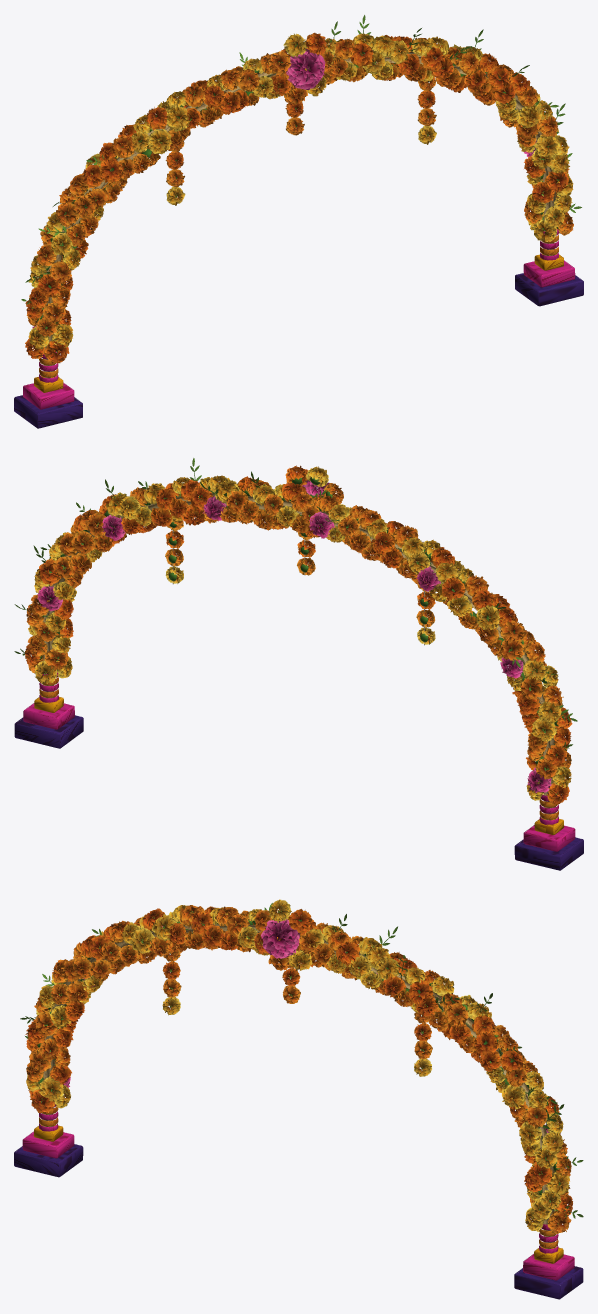
Rendered from w3_altar_archmarigold.glb.
3 views of the same model, one above another, from view 1: azimuth 30°, elevation 25°; view 2: azimuth 150°, elevation 25°; view 3: azimuth 330°, elevation 25° (orthographic).
Visible parts, largest first — view 1: w3_altar_archmarigold; view 2: w3_altar_archmarigold; view 3: w3_altar_archmarigold.
Boxes of the visible parts, x1,y1,x2,y2 form: w3_altar_archmarigold: (14, 15, 583, 428); w3_altar_archmarigold: (14, 458, 583, 870); w3_altar_archmarigold: (14, 899, 583, 1299).
Size of the model in its own units: 1.93 by 1.07 by 0.2208.
3 materials, 3 textured.
